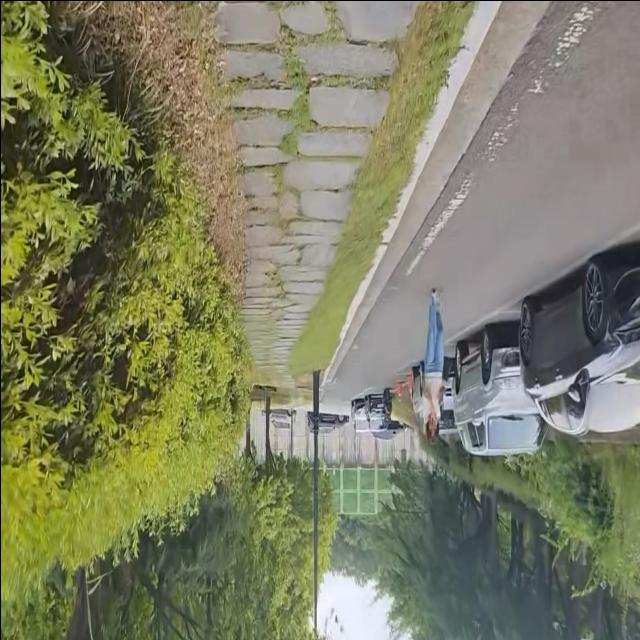obstacle: (509, 228, 640, 448), (449, 312, 552, 470), (304, 365, 342, 640), (414, 278, 450, 448)
road: (320, 0, 640, 402)
sidewalk: (203, 0, 496, 382)
